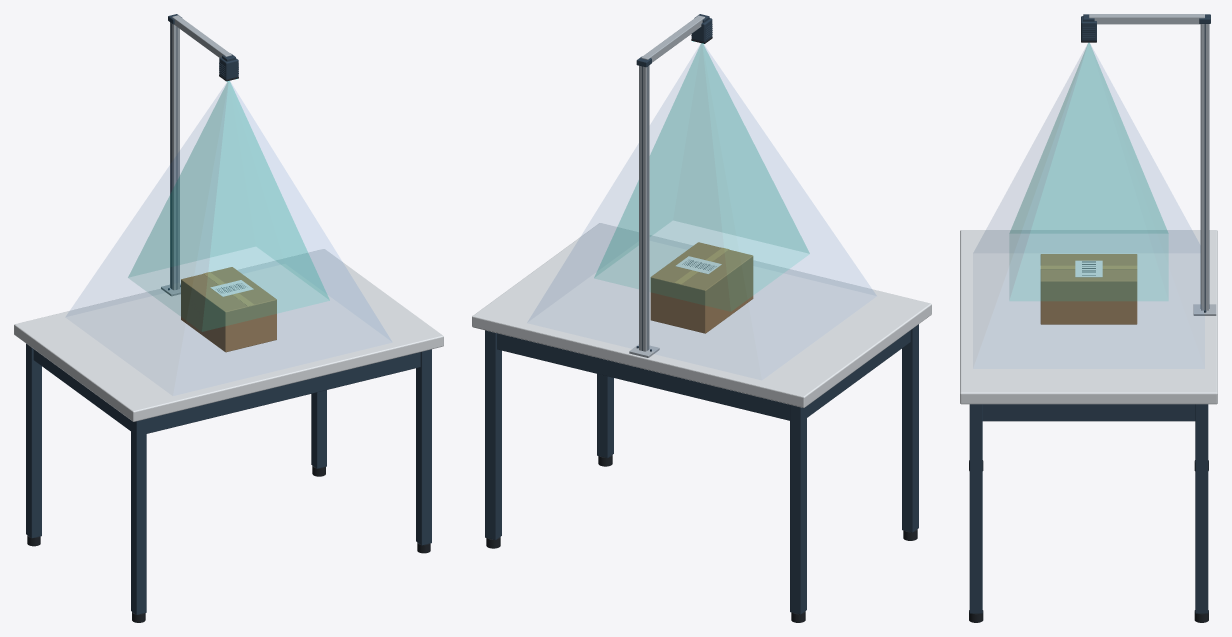
3 renders of one model, left to right at view 1: azimuth 30°, elevation 25°; view 2: azimuth 150°, elevation 25°; view 3: azimuth 270°, elevation 25°, orthographic. The views are drawn at different scales.
Parts seen in each view (by area): view 1: worktop, illustrative-focus, illustrative-peripheral, carton, apron-x--1, square-leg, square-leg.002, square-leg.001, extrusion, square-leg.003, apron-y--1, arm-extrusion; view 2: worktop, illustrative-focus, illustrative-peripheral, carton, apron-x-1, square-leg.001, square-leg.003, square-leg, extrusion, square-leg.002, apron-y--1, arm-extrusion; view 3: worktop, illustrative-focus, carton, illustrative-peripheral, apron-y-1, square-leg.002, square-leg.003, extrusion, arm-extrusion, slot-x-1, shipping-label.
Part boxes in pixels (x1,y1,x2,y2): worktop: [14, 249, 443, 421]; illustrative-focus: [128, 81, 329, 330]; illustrative-peripheral: [66, 86, 389, 339]; carton: [181, 267, 276, 352]; apron-x--1: [146, 352, 420, 433]; square-leg: [131, 419, 146, 614]; square-leg.002: [416, 349, 431, 545]; square-leg.001: [26, 343, 41, 538]; extrusion: [170, 22, 179, 290]; square-leg.003: [311, 390, 326, 468]; apron-y--1: [33, 349, 130, 430]; arm-extrusion: [172, 15, 231, 57]; worktop: [472, 223, 931, 407]; illustrative-focus: [594, 43, 809, 310]; illustrative-peripheral: [529, 47, 874, 320]; carton: [650, 242, 753, 333]; apron-x-1: [497, 333, 789, 420]; square-leg.001: [790, 405, 806, 614]; square-leg.003: [485, 330, 501, 540]; square-leg: [902, 324, 918, 532]; extrusion: [639, 65, 649, 351]; square-leg.002: [597, 374, 613, 458]; apron-y--1: [807, 330, 910, 417]; arm-extrusion: [641, 15, 705, 62]; worktop: [960, 230, 1217, 404]; illustrative-focus: [1009, 43, 1168, 300]; carton: [1040, 254, 1137, 324]; illustrative-peripheral: [974, 48, 1199, 252]; apron-y-1: [982, 404, 1195, 421]; square-leg.002: [969, 404, 982, 613]; square-leg.003: [1195, 404, 1208, 613]; extrusion: [1201, 24, 1208, 310]; arm-extrusion: [1089, 14, 1204, 24]; slot-x-1: [1204, 24, 1205, 310]; shipping-label: [1075, 260, 1102, 277].
Bounding box in the file's own units: 1.2 × 1.81 × 0.8.
